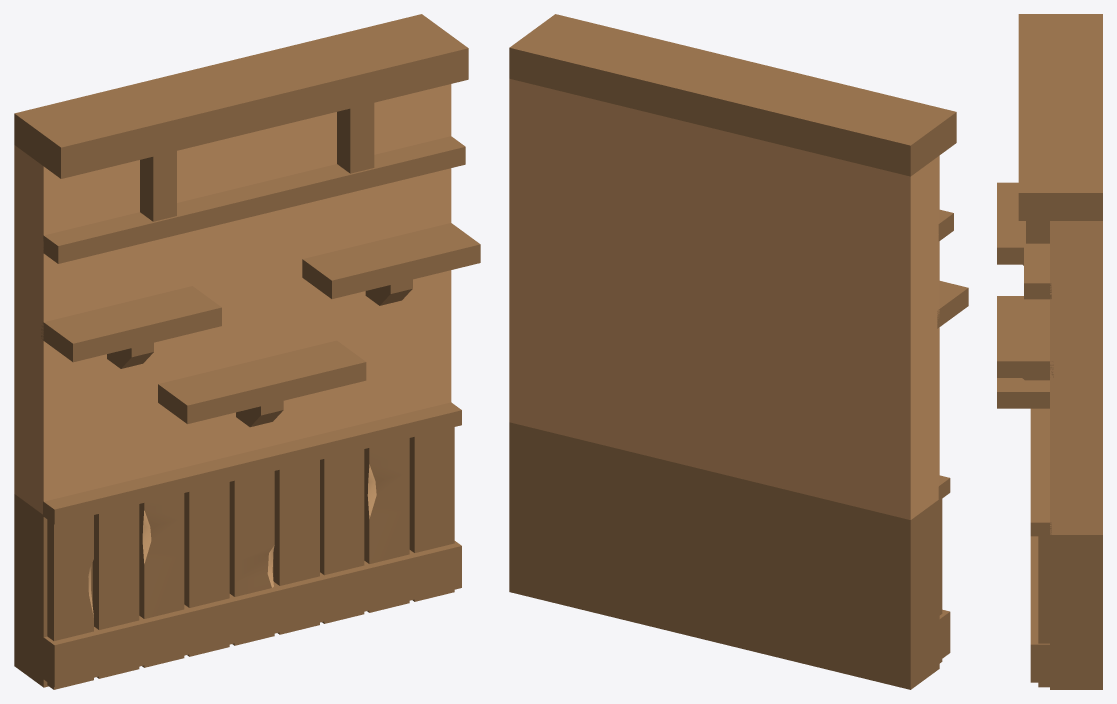
The model's file is Wall_Shelves.fbx.
The picture shows the model from 3 angles, left to right: view 1: azimuth 30°, elevation 25°; view 2: azimuth 150°, elevation 25°; view 3: azimuth 270°, elevation 25°; orthographic projection. The views are drawn at different scales.
Parts seen in each view (by area): view 1: Wall_Shelves; view 2: Wall_Shelves; view 3: Wall_Shelves.
Boxes of the visible parts, left/top/right/bottom form: Wall_Shelves: left=14, top=14, right=480, bottom=689; Wall_Shelves: left=509, top=14, right=968, bottom=689; Wall_Shelves: left=997, top=14, right=1102, bottom=689.
Bounding box in the file's own units: 400 × 518 × 99.94.
